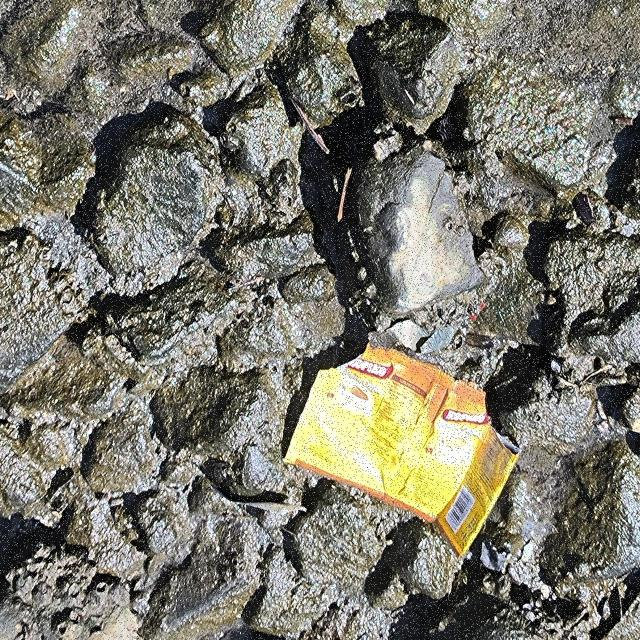plastic_waste: (282, 341, 524, 563)
